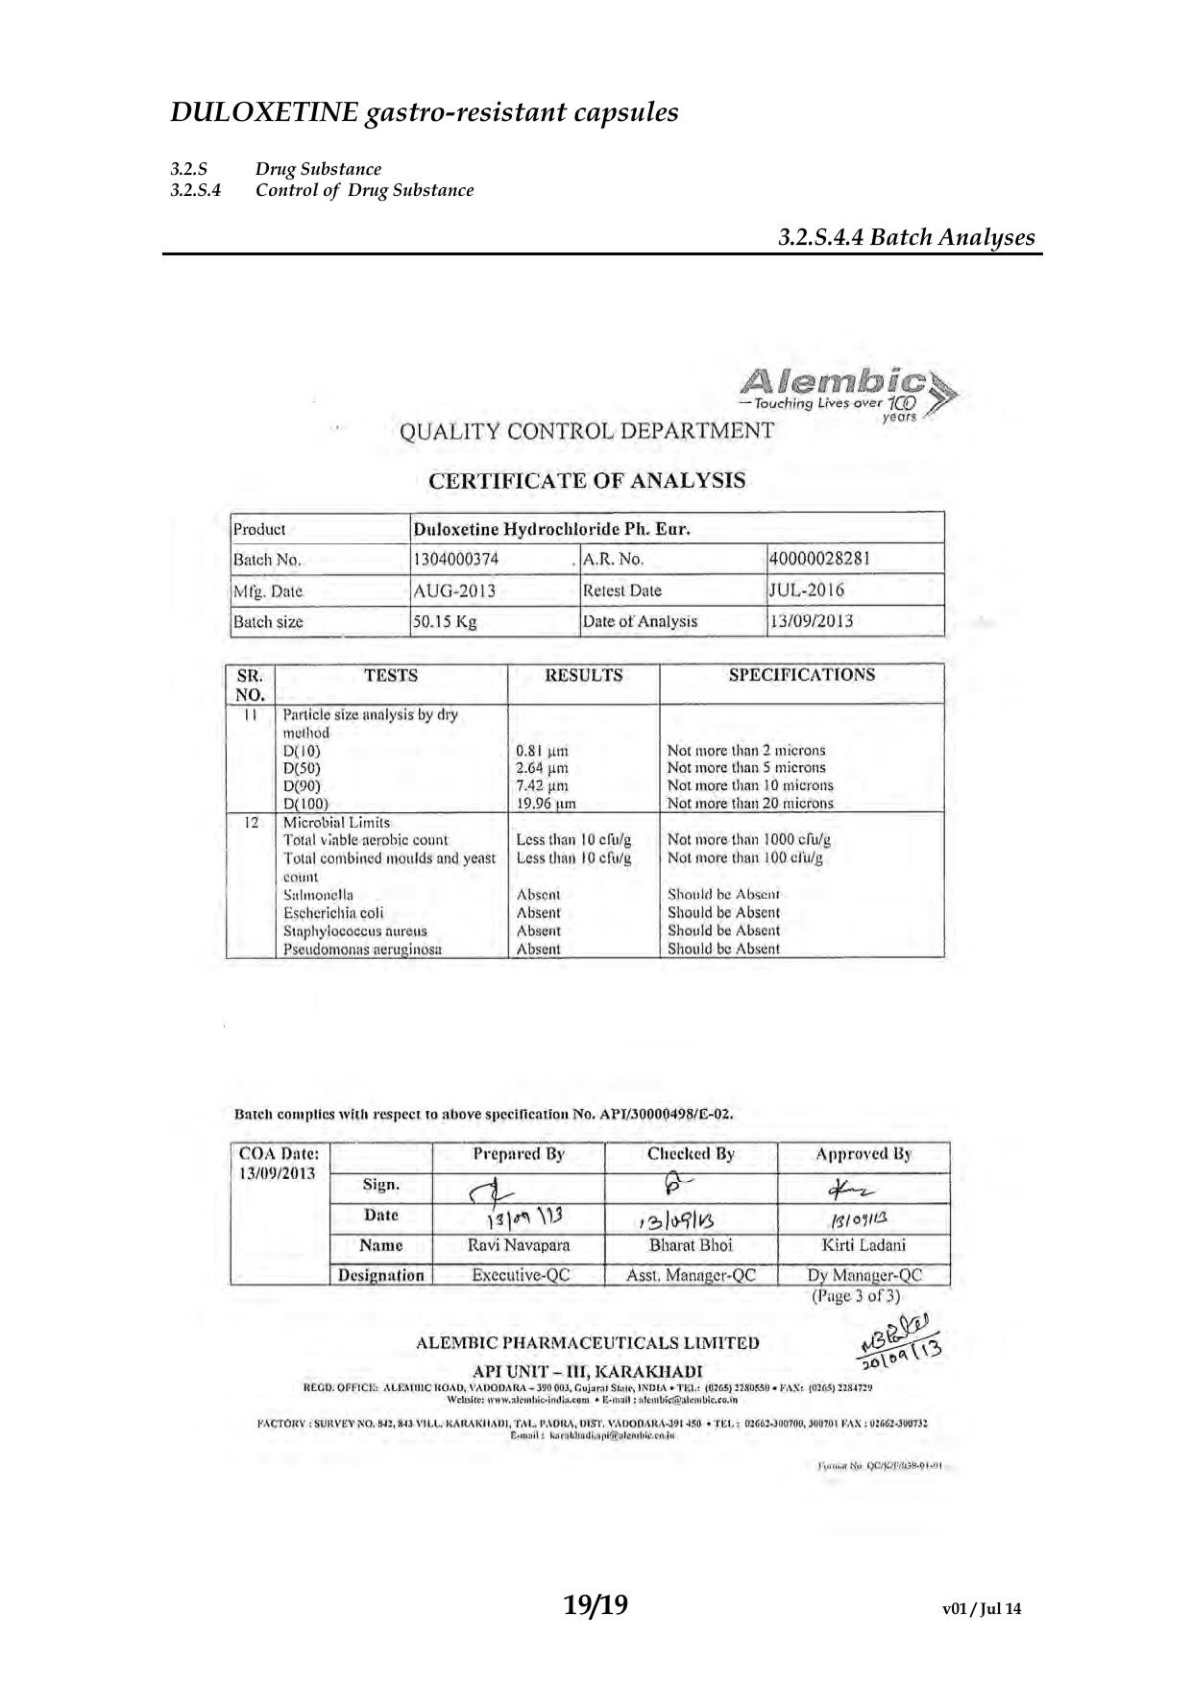full_lined: (222, 661, 947, 961)
merged_cells: (230, 1139, 952, 1288), (228, 511, 946, 638)
